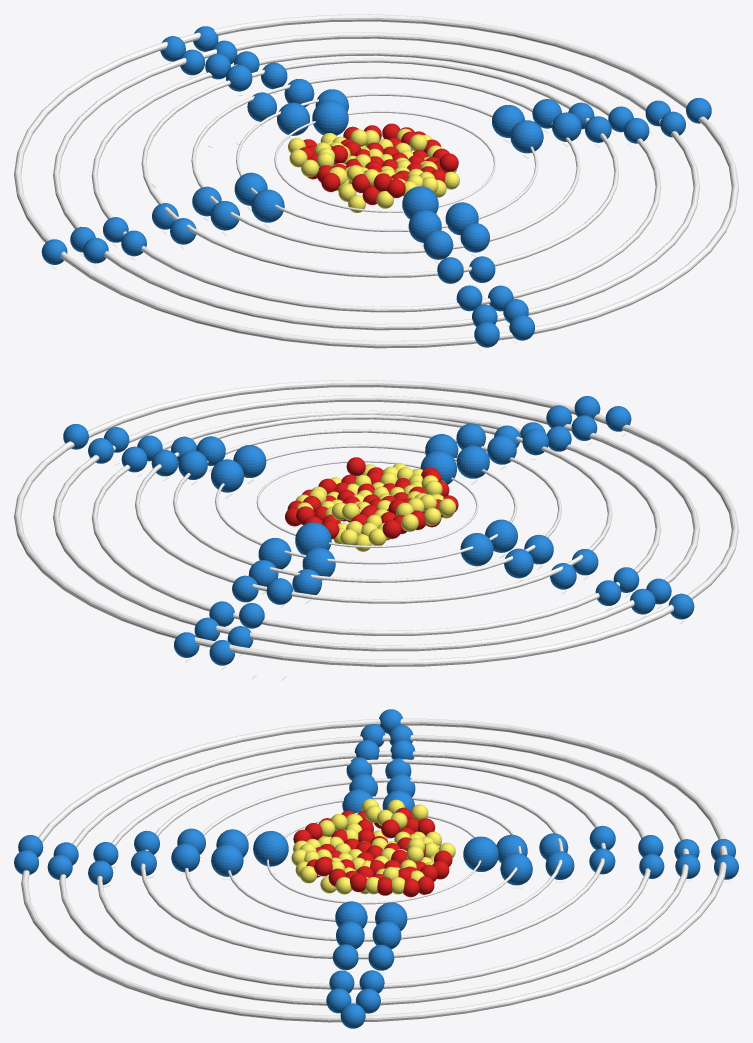
3 views of the same model, one above another, from view 1: azimuth 30°, elevation 25°; view 2: azimuth 150°, elevation 25°; view 3: azimuth 270°, elevation 25° (orthographic). The views are drawn at different scales.
Visible parts, largest first — view 1: Torus.007, Torus.006, Torus.005, Torus.004, Torus.003, Torus.002, Torus.001, g, g.005, g.003, g.001, g.008 (+16 smaller); view 2: Torus.007, Torus.006, Torus.005, Torus.004, Torus.003, Torus.002, Torus.001, g, g.006, g.004, g.002, g.003 (+33 smaller); view 3: Torus.007, Torus.006, Torus.005, Torus.004, Torus.003, Torus.002, g.001, g, Torus.001, g.007, g.009, g.015 (+9 smaller).
Boxes of the visible parts, box(x1,y1,x2,y2) form: Torus.007: box(14, 14, 738, 348); Torus.006: box(53, 32, 699, 330); Torus.005: box(91, 50, 661, 312); Torus.004: box(141, 58, 618, 277); Torus.003: box(191, 74, 580, 253); Torus.002: box(236, 93, 538, 231); Torus.001: box(274, 110, 495, 212); g: box(312, 100, 348, 135); g.005: box(510, 120, 543, 153); g.003: box(251, 189, 284, 222); g.001: box(402, 186, 438, 219); g.008: box(277, 102, 309, 135); Torus.007: box(14, 380, 738, 666); Torus.006: box(53, 395, 699, 651); Torus.005: box(91, 410, 661, 635); Torus.004: box(135, 414, 612, 603); Torus.003: box(173, 429, 561, 582); Torus.002: box(215, 444, 517, 564); Torus.001: box(256, 460, 478, 547); g: box(295, 522, 331, 554); g.006: box(456, 445, 489, 478); g.004: box(211, 459, 243, 492); g.002: box(460, 533, 493, 566); g.003: box(485, 519, 517, 552); Torus.007: box(21, 718, 727, 1022); Torus.006: box(59, 735, 689, 1005); Torus.005: box(97, 751, 650, 989); Torus.004: box(140, 759, 605, 959); Torus.003: box(184, 778, 563, 941); Torus.002: box(228, 796, 521, 922); g.001: box(253, 831, 288, 866); g: box(463, 836, 498, 871); Torus.001: box(266, 812, 481, 904); g.007: box(211, 844, 243, 876); g.009: box(500, 853, 532, 885); g.015: box(171, 843, 200, 872).
Bounding box in the file's own units: 20.24 × 2.92 × 20.12.
